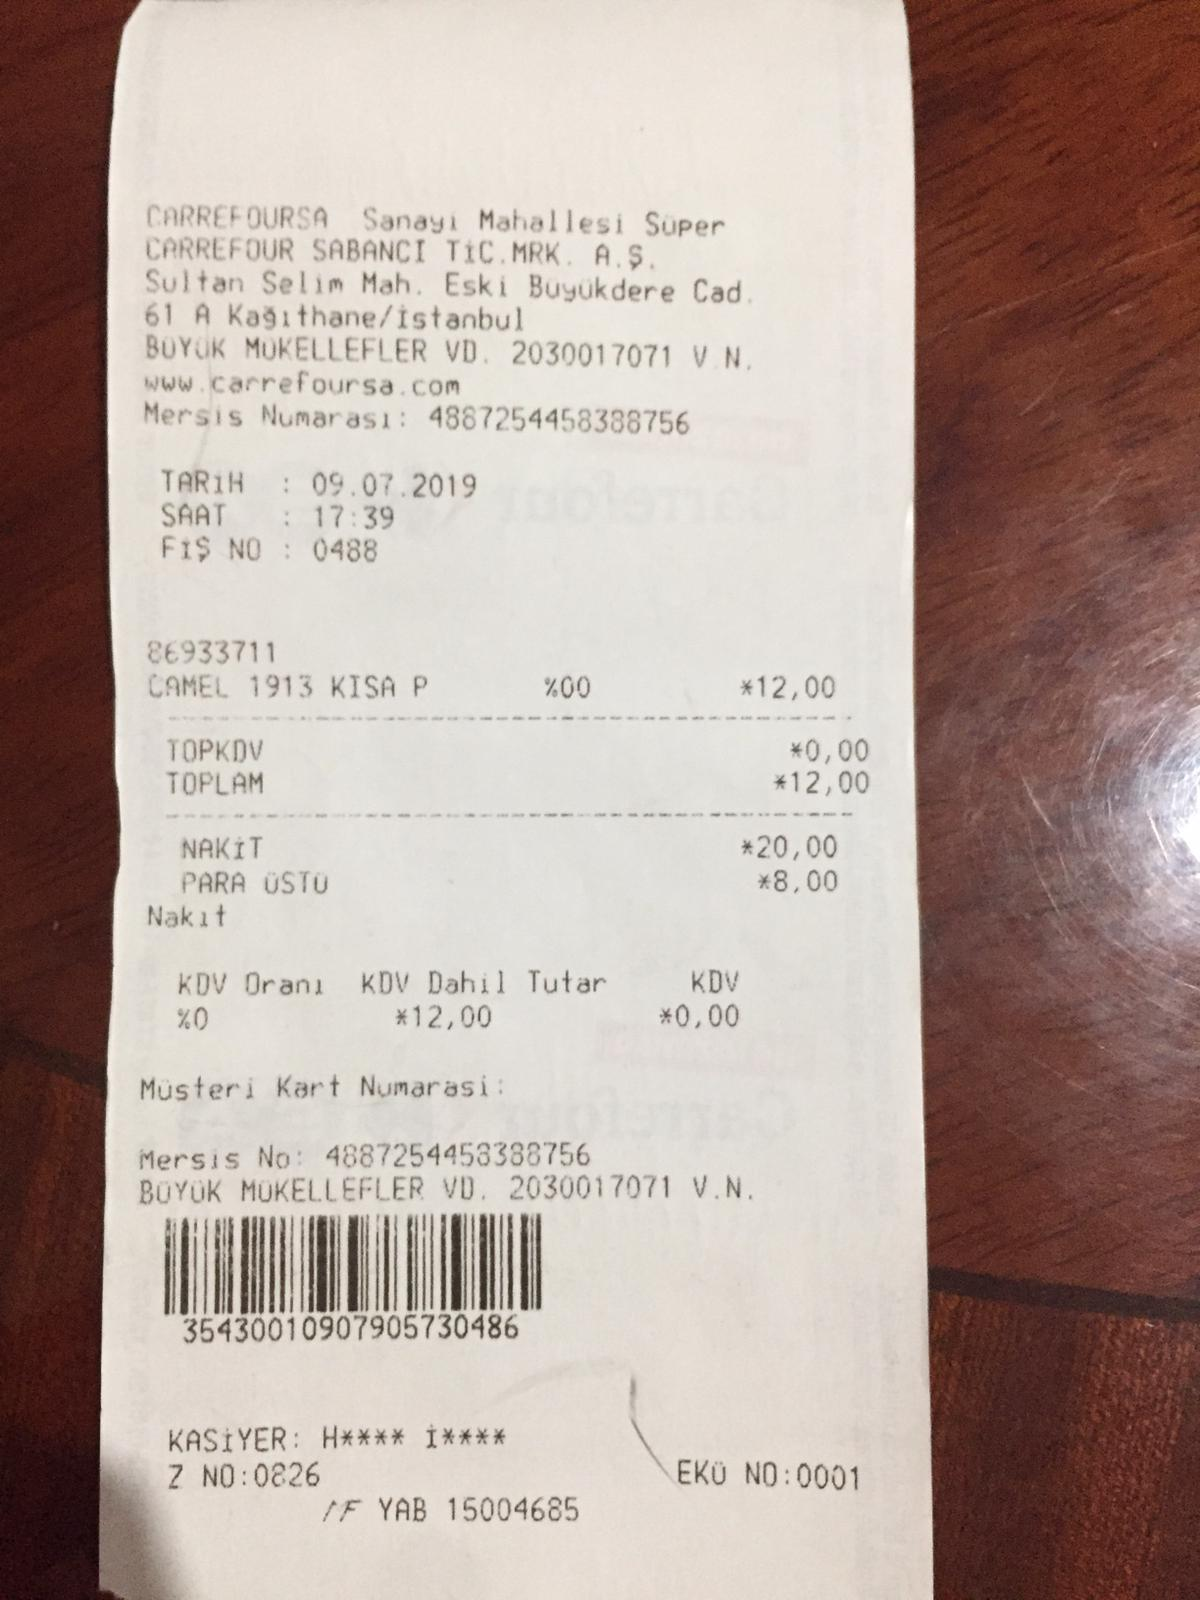total: (165, 764, 885, 806)
